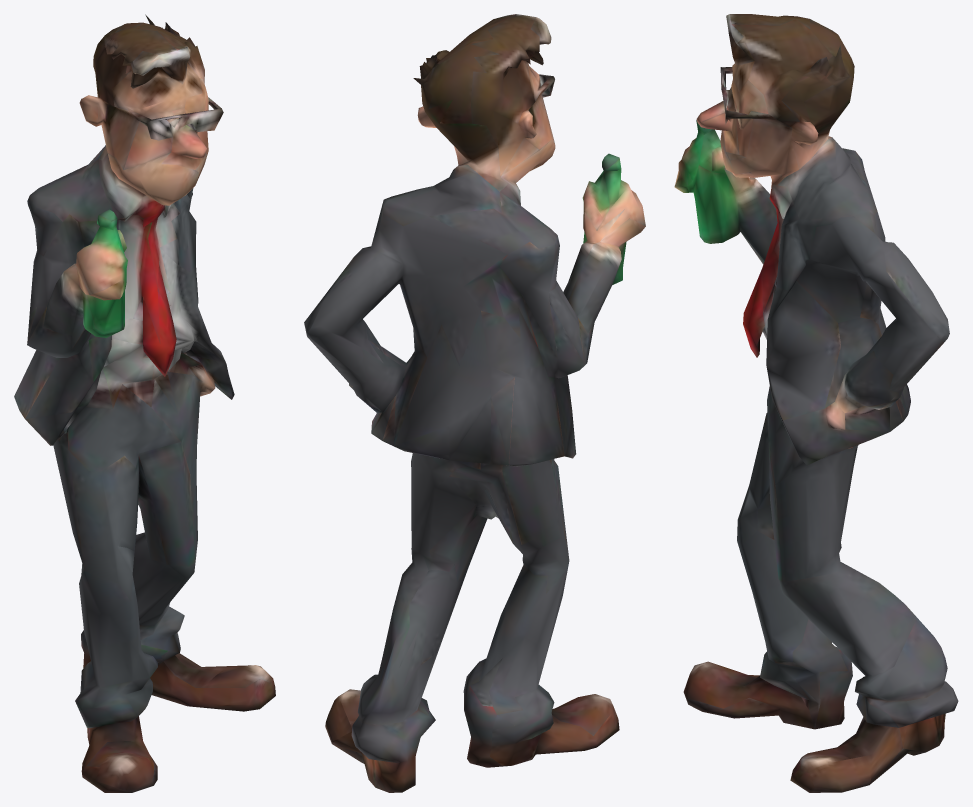
The model's file is obstacle-drunk.glb.
3 views of the same model, side by side, from view 1: azimuth 30°, elevation 25°; view 2: azimuth 150°, elevation 25°; view 3: azimuth 270°, elevation 25° (orthographic).
Bounding box in the file's own units: 0.7325 × 2 × 0.7293.
1 material, 1 textured.
